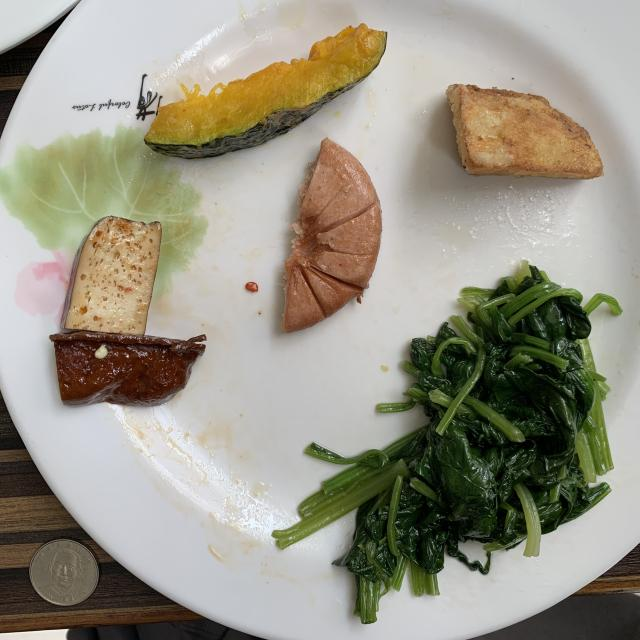Spam: (282, 139, 381, 332)
coin: (29, 539, 99, 606)
firm tofu: (50, 216, 205, 405)
fried potato: (446, 84, 604, 179)
mustard greens: (272, 261, 621, 624)
pumpkin: (145, 24, 386, 159)
